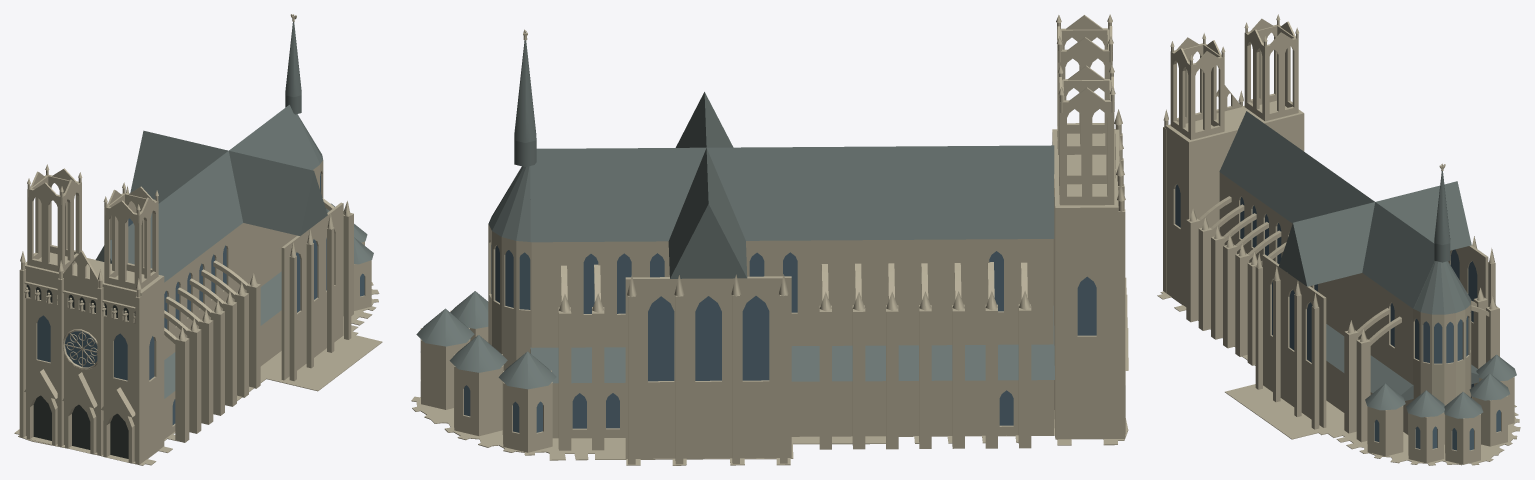
File: cathedrale-notre-dame-reims-far.glb
3 views of the same model, side by side, from view 1: azimuth 30°, elevation 25°; view 2: azimuth 150°, elevation 25°; view 3: azimuth 270°, elevation 25° (orthographic). The views are drawn at different scales.
Visible parts, largest first — view 1: cathedrale-notre-dame-reims-0-stone, cathedrale-notre-dame-reims-0-roof, cathedrale-notre-dame-reims-0-glass, cathedrale-notre-dame-reims-0-shadow, cathedrale-notre-dame-reims-0-buttress; view 2: cathedrale-notre-dame-reims-0-stone, cathedrale-notre-dame-reims-0-roof, cathedrale-notre-dame-reims-0-glass, cathedrale-notre-dame-reims-0-buttress; view 3: cathedrale-notre-dame-reims-0-stone, cathedrale-notre-dame-reims-0-roof, cathedrale-notre-dame-reims-0-glass, cathedrale-notre-dame-reims-0-buttress.
Boxes of the visible parts, left/top/right/bottom form: cathedrale-notre-dame-reims-0-stone: left=14, top=14, right=382, bottom=465; cathedrale-notre-dame-reims-0-roof: left=96, top=21, right=373, bottom=398; cathedrale-notre-dame-reims-0-glass: left=37, top=172, right=364, bottom=424; cathedrale-notre-dame-reims-0-shadow: left=26, top=284, right=135, bottom=458; cathedrale-notre-dame-reims-0-buttress: left=164, top=198, right=334, bottom=343; cathedrale-notre-dame-reims-0-stone: left=411, top=14, right=1128, bottom=465; cathedrale-notre-dame-reims-0-roof: left=416, top=40, right=1054, bottom=389; cathedrale-notre-dame-reims-0-glass: left=464, top=245, right=1096, bottom=432; cathedrale-notre-dame-reims-0-buttress: left=561, top=262, right=1027, bottom=301; cathedrale-notre-dame-reims-0-stone: left=1157, top=14, right=1520, bottom=465; cathedrale-notre-dame-reims-0-roof: left=1219, top=111, right=1516, bottom=418; cathedrale-notre-dame-reims-0-glass: left=1175, top=184, right=1500, bottom=450; cathedrale-notre-dame-reims-0-buttress: left=1198, top=196, right=1489, bottom=345.
Size of the model in its own units: 141 by 86.98 by 106.
